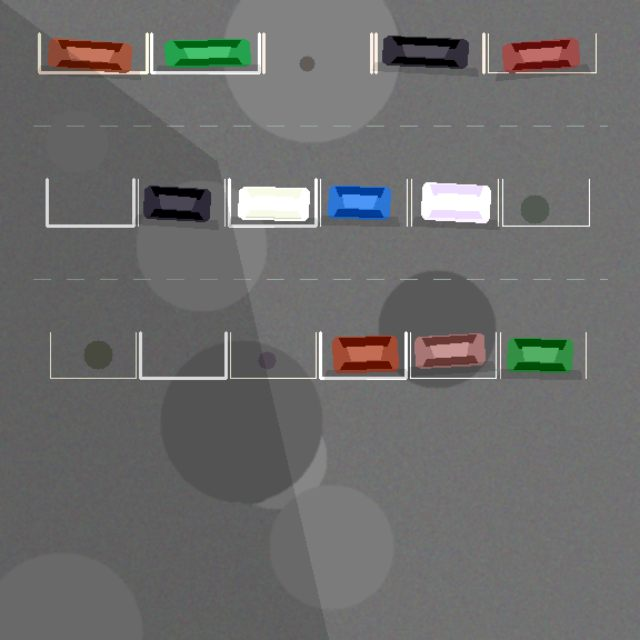space-empty: (263, 33, 371, 72), (502, 179, 589, 226), (47, 179, 133, 226), (50, 332, 136, 378), (140, 332, 226, 378), (230, 332, 316, 378)
space-occupied: (39, 33, 147, 72), (151, 33, 259, 72), (488, 33, 596, 72), (376, 33, 483, 72), (229, 179, 316, 226), (320, 179, 407, 226), (411, 179, 498, 226), (138, 179, 224, 226), (320, 332, 406, 378), (410, 332, 496, 378), (500, 332, 586, 378)
